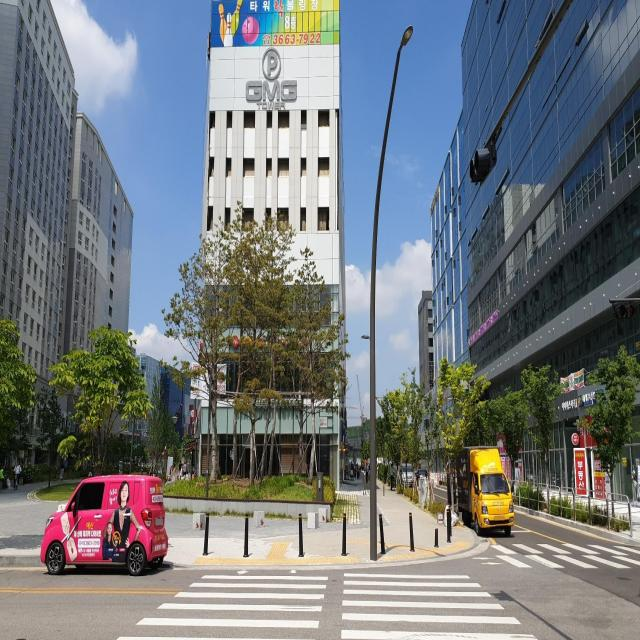횡단보도: (114, 569, 538, 640), (476, 537, 640, 574)
